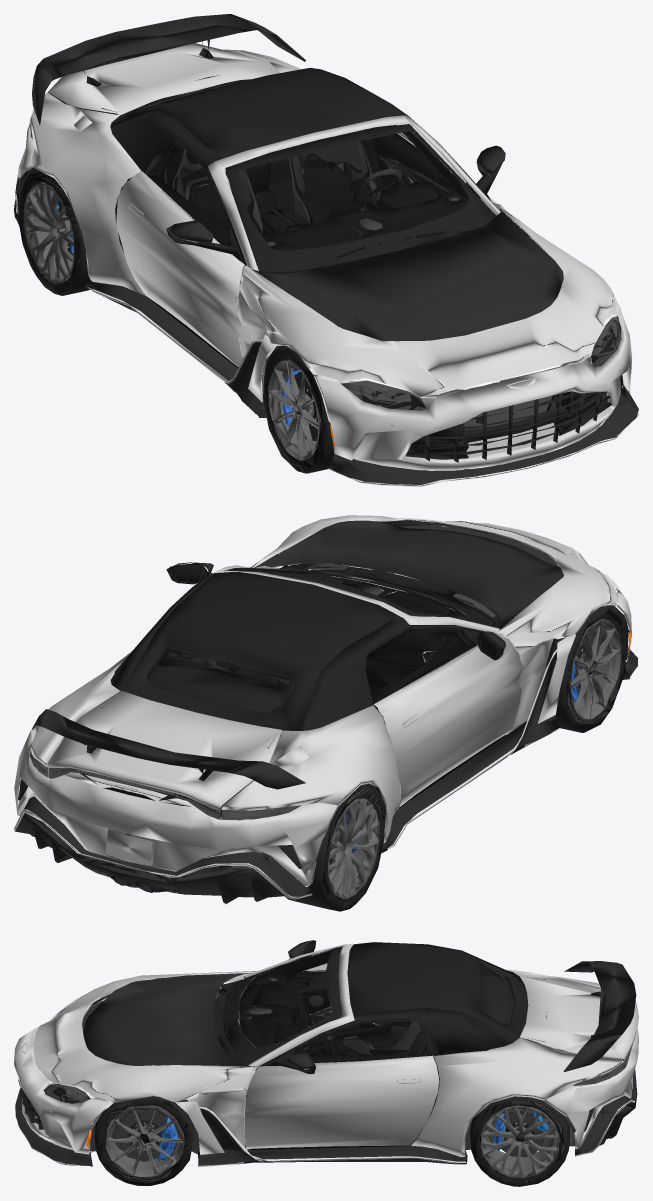
File: car08.glb
3 renders of one model, top to bottom at view 1: azimuth 30°, elevation 25°; view 2: azimuth 150°, elevation 25°; view 3: azimuth 270°, elevation 25°, orthographic. The views are drawn at different scales.
Visible parts, largest first — view 1: Object_36, Object_32, Object_34, Object_46, Object_26, Object_60, Object_56, Object_40, Object_14, Object_6, Object_27, Object_30 (+1 smaller); view 2: Object_36, Object_34, Object_32, Object_46, Object_26, Object_60, Object_56, Object_40, Object_30, Object_10, Object_38, Object_6 (+1 smaller); view 3: Object_36, Object_32, Object_34, Object_46, Object_26, Object_60, Object_56, Object_30, Object_40, Object_27, Object_6, Object_53.
Boxes of the visible parts, bbox=[...] form: Object_36: bbox=[14, 43, 638, 486]; Object_32: bbox=[14, 14, 638, 484]; Object_34: bbox=[18, 39, 612, 469]; Object_46: bbox=[29, 89, 620, 410]; Object_26: bbox=[73, 106, 493, 368]; Object_60: bbox=[18, 170, 118, 295]; Object_56: bbox=[263, 323, 623, 473]; Object_40: bbox=[15, 125, 619, 445]; Object_14: bbox=[464, 395, 559, 457]; Object_6: bbox=[172, 136, 597, 275]; Object_27: bbox=[177, 141, 415, 237]; Object_30: bbox=[17, 84, 620, 465]; Object_36: bbox=[14, 515, 633, 899]; Object_34: bbox=[18, 562, 565, 892]; Object_32: bbox=[15, 520, 637, 903]; Object_46: bbox=[30, 567, 620, 819]; Object_26: bbox=[80, 569, 505, 807]; Object_60: bbox=[30, 785, 384, 911]; Object_56: bbox=[546, 606, 626, 732]; Object_40: bbox=[30, 630, 630, 870]; Object_30: bbox=[24, 568, 628, 896]; Object_10: bbox=[18, 524, 557, 867]; Object_38: bbox=[105, 829, 154, 865]; Object_6: bbox=[207, 520, 605, 691]; Object_36: bbox=[14, 944, 638, 1167]; Object_32: bbox=[15, 940, 637, 1166]; Object_34: bbox=[18, 940, 626, 1131]; Object_46: bbox=[44, 950, 635, 1102]; Object_26: bbox=[239, 950, 591, 1149]; Object_60: bbox=[470, 1096, 569, 1186]; Object_56: bbox=[94, 1096, 193, 1185]; Object_30: bbox=[34, 949, 629, 1160]; Object_40: bbox=[45, 1044, 632, 1147]; Object_27: bbox=[311, 1006, 425, 1055]; Object_6: bbox=[91, 973, 427, 1056]; Object_53: bbox=[157, 1113, 504, 1161].
Size of what is drawn, in the model's own units: 2.15 by 1.28 by 4.51.
Materials: 28 (5 with a texture image).
